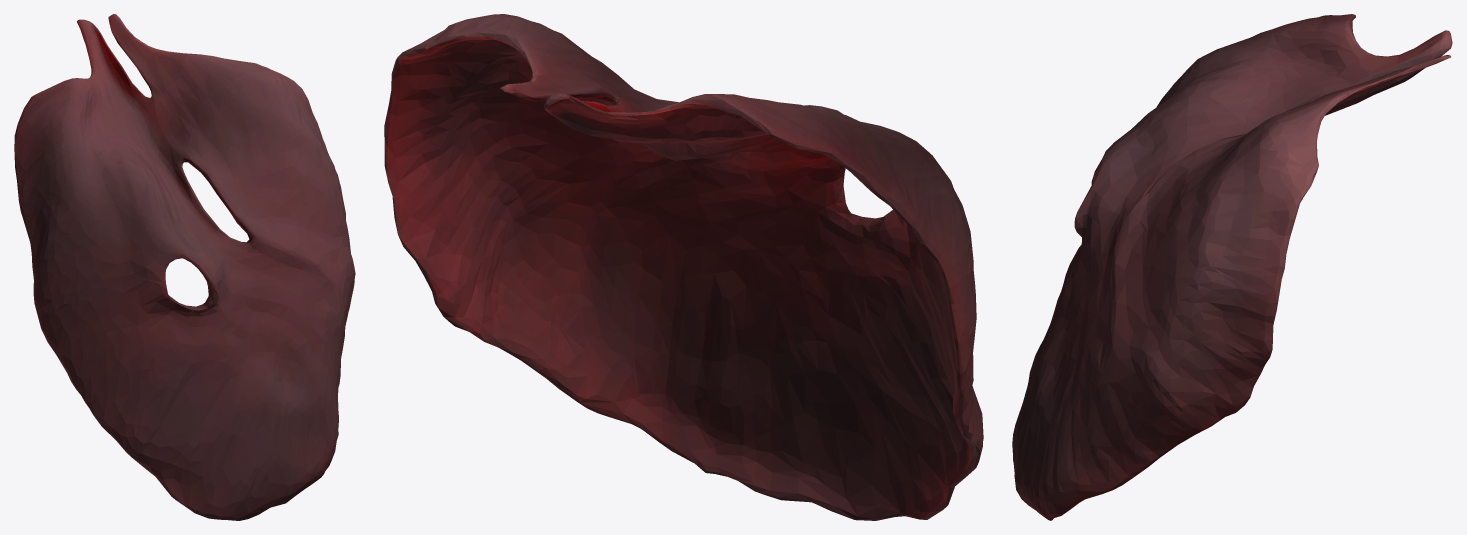
Rendered from diaphragm_LO.glb.
3 renders of one model, left to right at view 1: azimuth 30°, elevation 25°; view 2: azimuth 150°, elevation 25°; view 3: azimuth 270°, elevation 25°, orthographic. The views are drawn at different scales.
Parts seen in each view (by area): view 1: diaphragm_LO; view 2: diaphragm_LO; view 3: diaphragm_LO.
Boxes of the visible parts, box(x1,y1,x2,y2) form: diaphragm_LO: box(14, 14, 355, 520); diaphragm_LO: box(384, 14, 983, 520); diaphragm_LO: box(1012, 14, 1452, 520).
Size of the model in its own units: 0.00453 by 0.00513 by 0.00444.
Materials: 1 (1 with a texture image).
